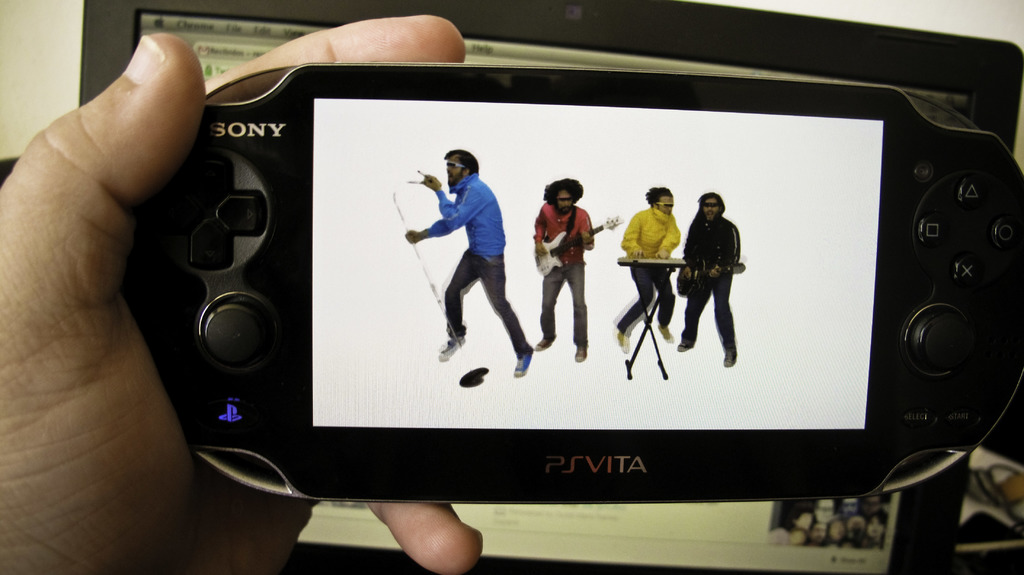Person: (404, 148, 532, 375), (675, 192, 741, 365), (614, 186, 680, 352), (535, 176, 593, 361)
